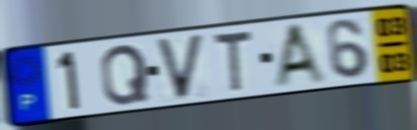1: (55, 50, 83, 112)
6: (325, 16, 373, 83)
A: (271, 20, 331, 88)
Q: (99, 42, 152, 108)
T: (211, 28, 255, 95)
V: (153, 31, 208, 103)
